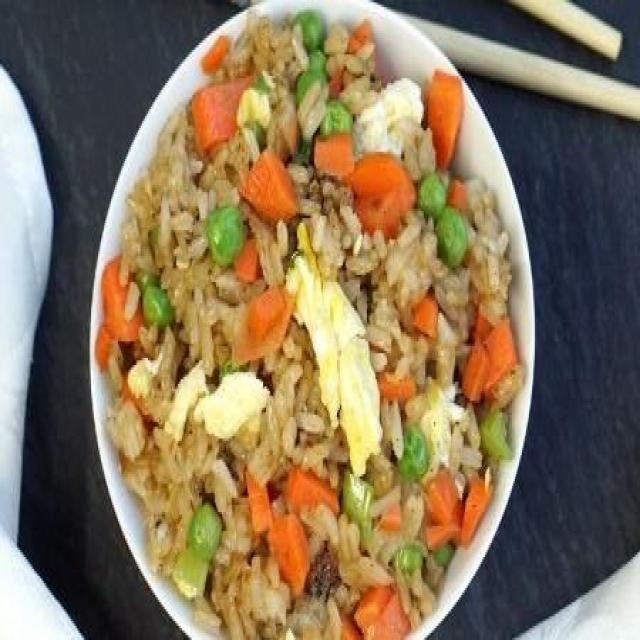Nasi Goreng: (94, 5, 525, 638)
